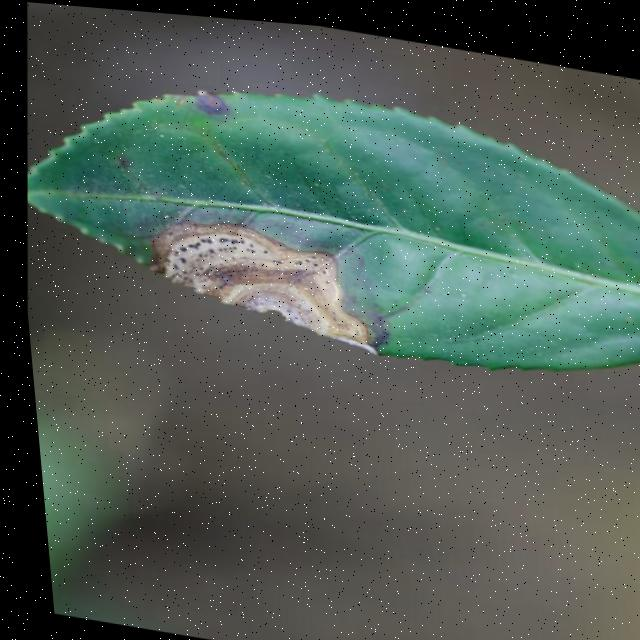Tea cloud leaf blight: (128, 210, 376, 342)
